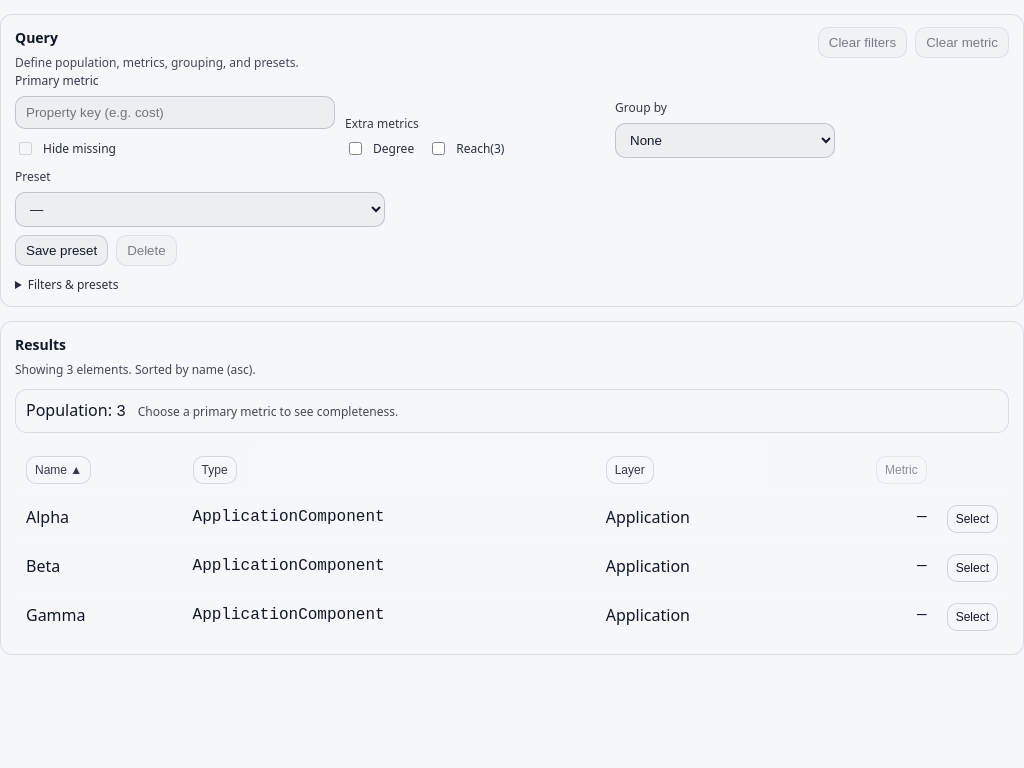
PortfolioAnalysisView primary metric column › reads numeric property values and applies heat intensity metadata
In the field labelled "Primary metric": (175, 112) [15, 96, 335, 129], type "cost"
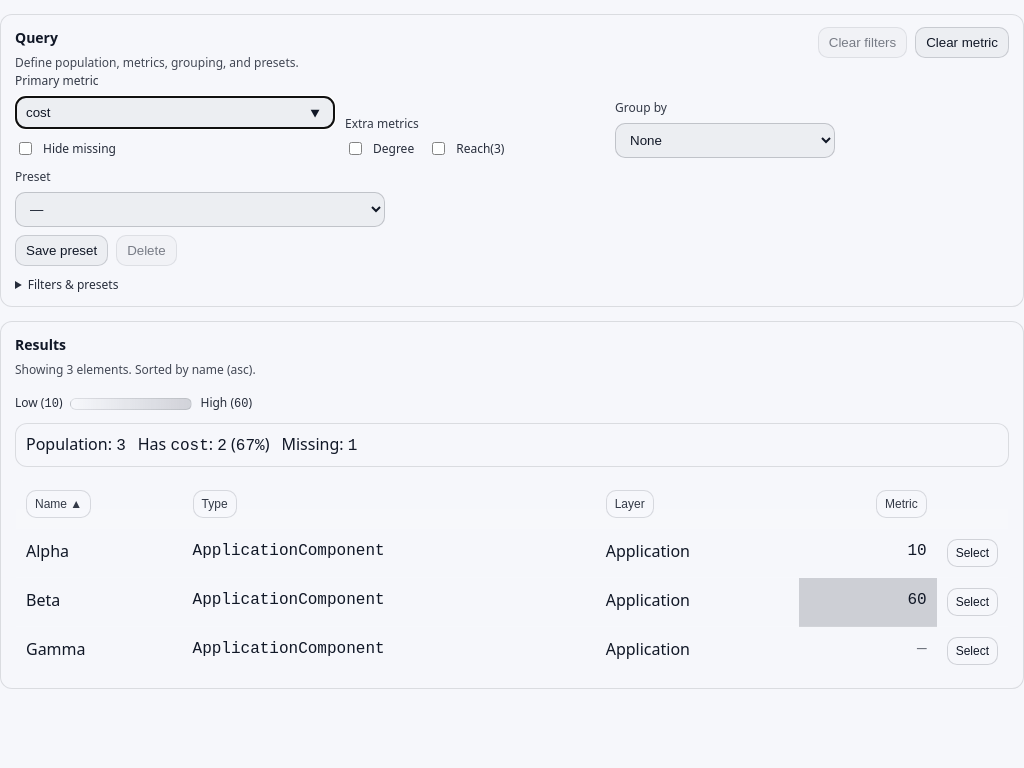
Result: the text "10" is shown at [799, 528, 937, 578]
Result: the text "Low (10)" is shown at [15, 394, 62, 413]
Result: the text "High (60)" is shown at [200, 394, 252, 413]
Hide missing removes rows without the selected metric.
Click the checkbox labelled "Hide missing": (26, 148) [19, 142, 32, 155]
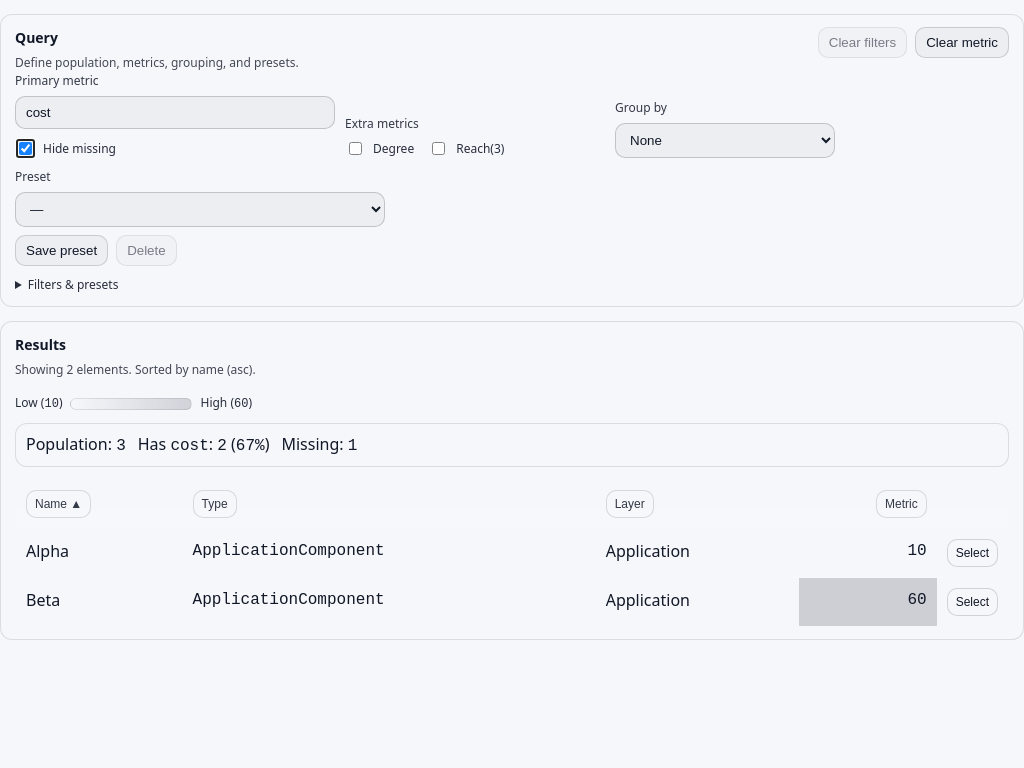
Result: the text "Gamma" is gone
